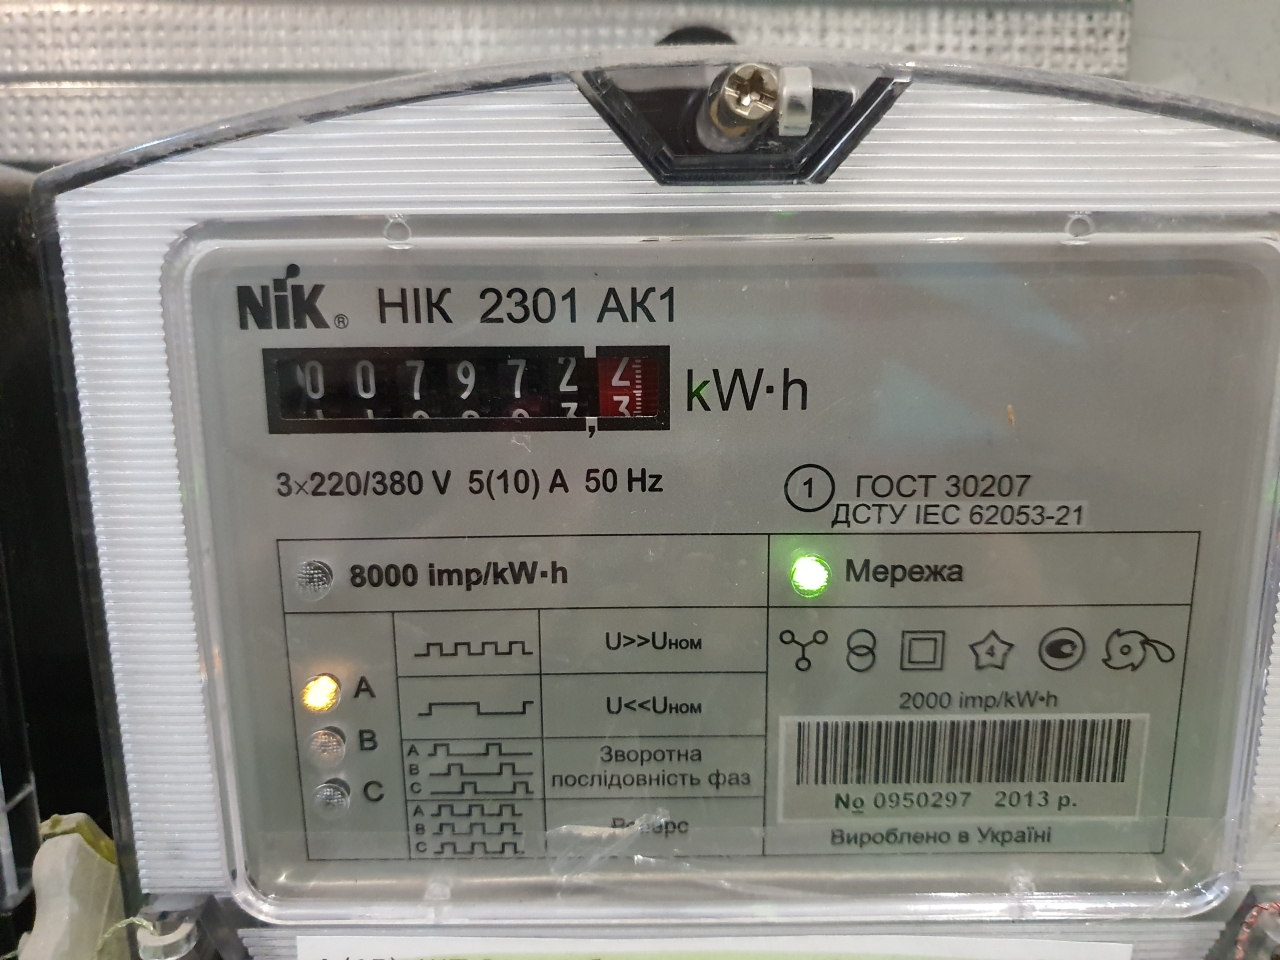0: (353, 357, 378, 399), (302, 358, 328, 399)
2: (557, 355, 580, 393), (608, 355, 631, 388)
3: (610, 392, 632, 417)
7: (504, 355, 530, 401), (403, 357, 427, 401)
9: (454, 357, 476, 400)
screen: (246, 333, 688, 447)
